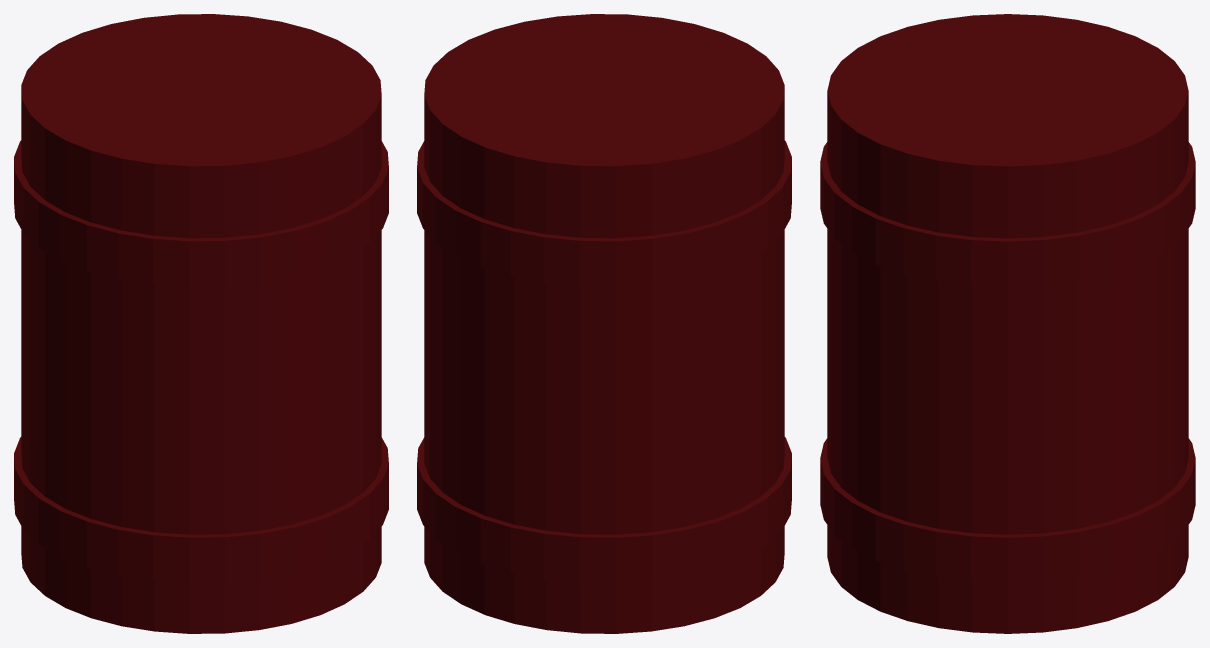
File: Barrel.glb
3 renders of one model, left to right at view 1: azimuth 30°, elevation 25°; view 2: azimuth 150°, elevation 25°; view 3: azimuth 270°, elevation 25°, orthographic.
Visible parts, largest first — view 1: Cylinder; view 2: Cylinder; view 3: Cylinder.
Boxes of the visible parts, <box> form: Cylinder: <box>14,14,388,633</box>; Cylinder: <box>417,14,791,633</box>; Cylinder: <box>820,14,1195,633</box>.
Size of the model in its own units: 1.46 by 2 by 1.46.
